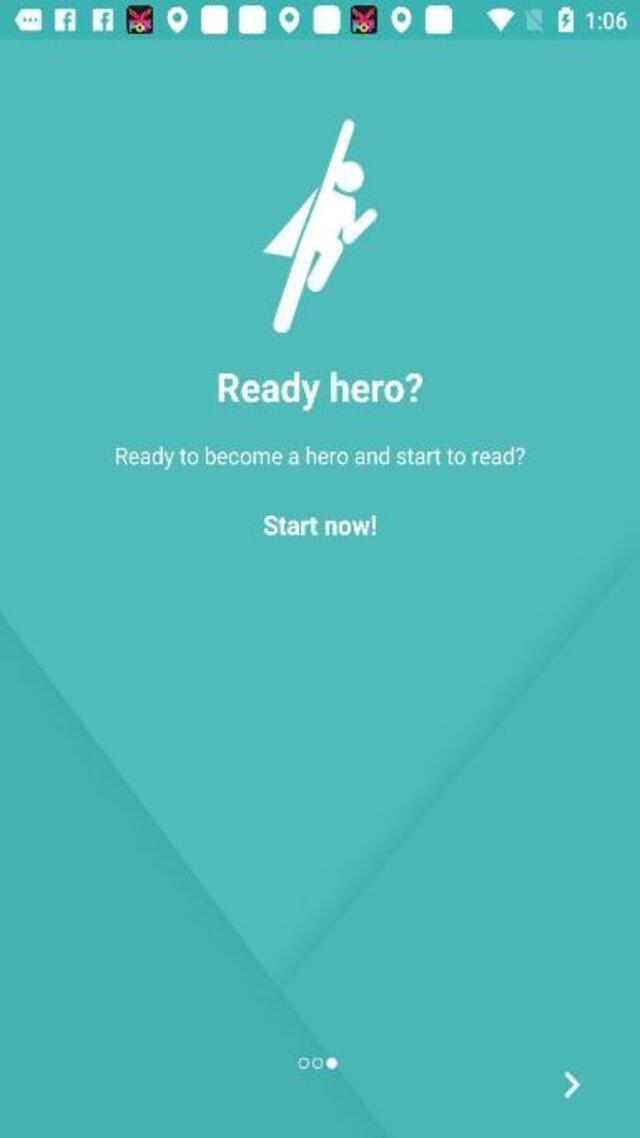Icon: (564, 1070, 580, 1098)
Image: (262, 120, 376, 333)
Text: (117, 446, 526, 468), (219, 372, 423, 411), (262, 514, 376, 535)
